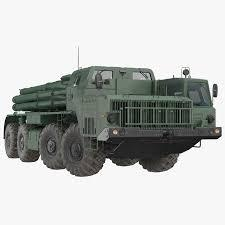MIL_SAM_TEL: (2, 61, 223, 180)
